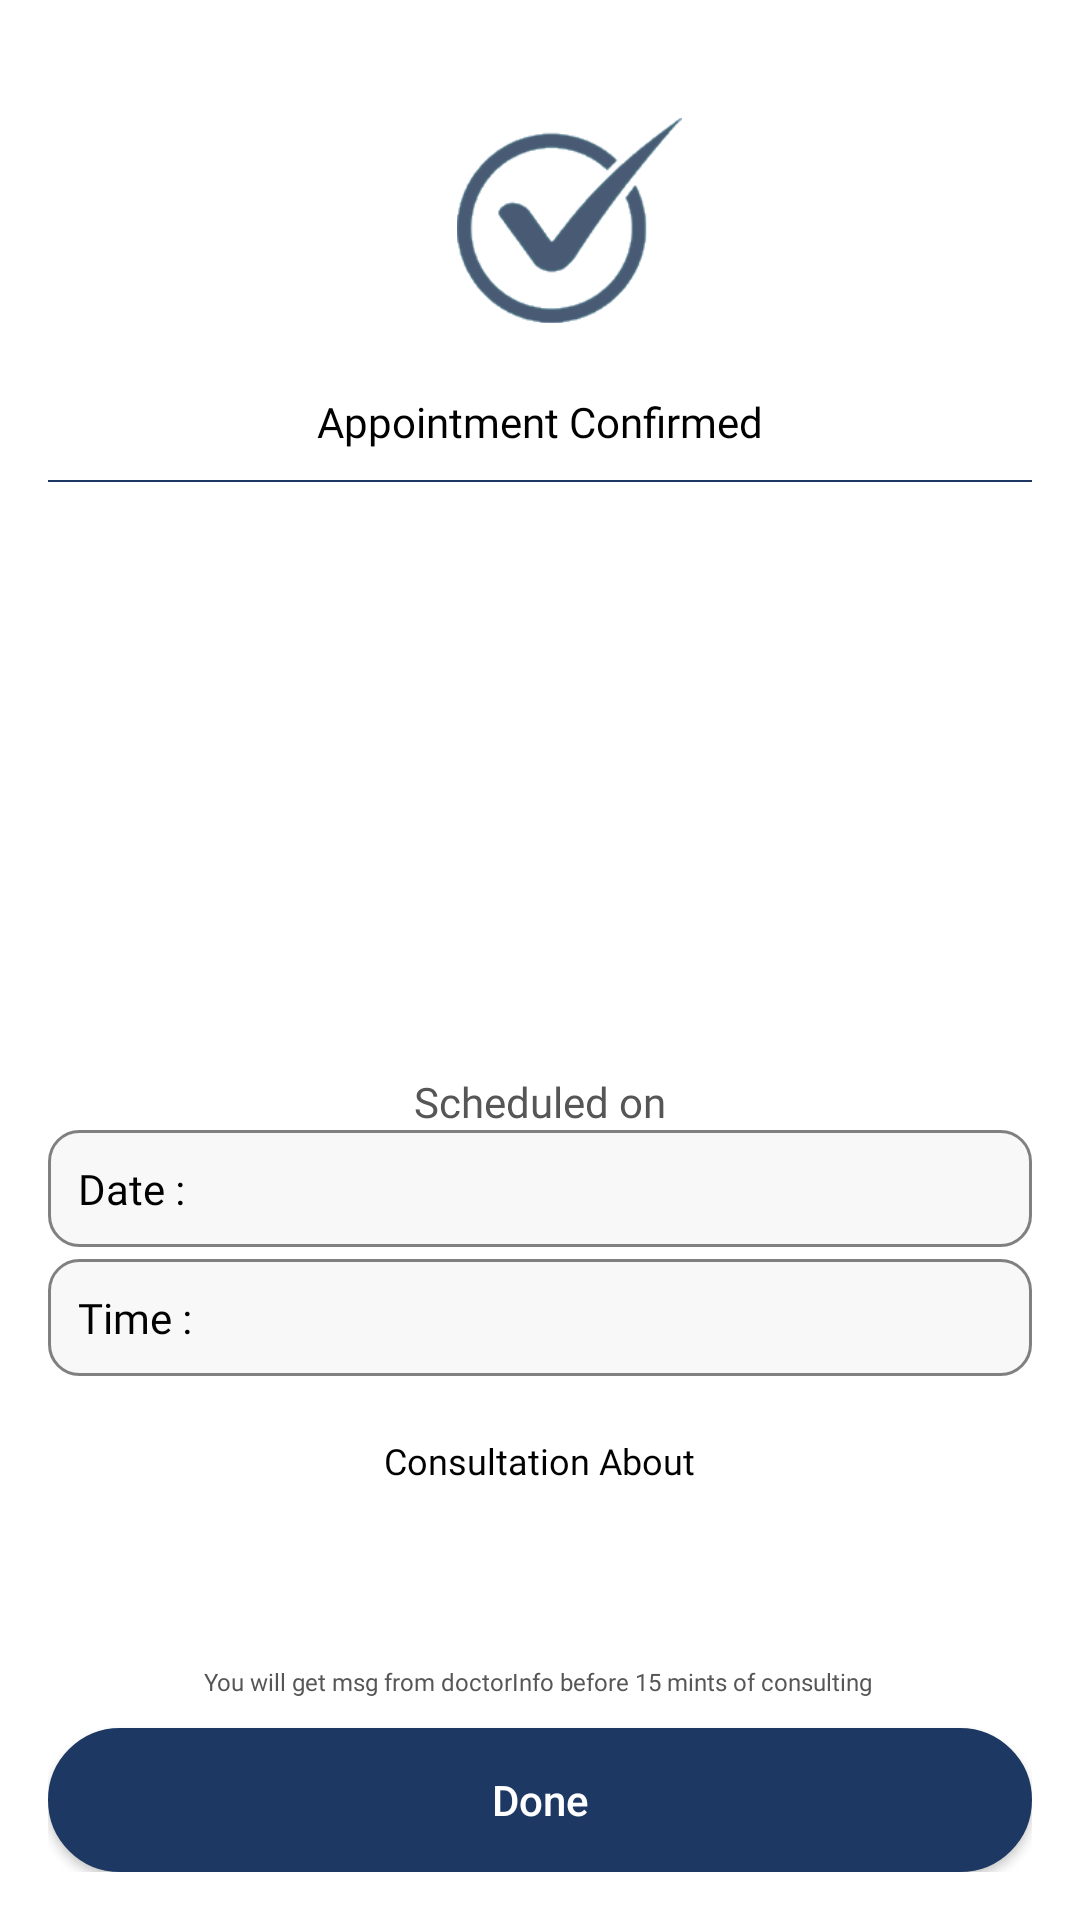

Icon bounding boxes for this 1080 × 1920 phone screenshot, format (x1, y1, x2, y2):
verified: (457, 118, 682, 323)
